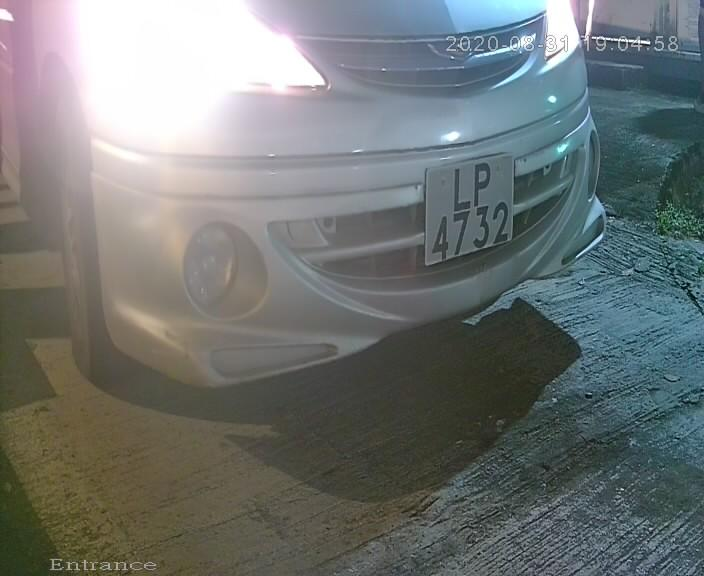License Plate: (415, 139, 522, 281)
